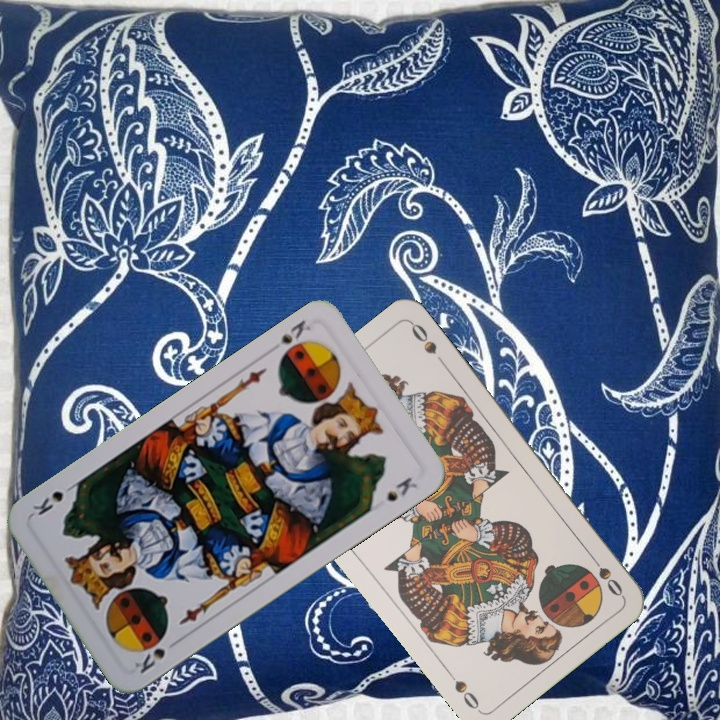SK: (275, 315, 313, 363), (130, 643, 168, 677)
SO: (584, 548, 626, 600)
